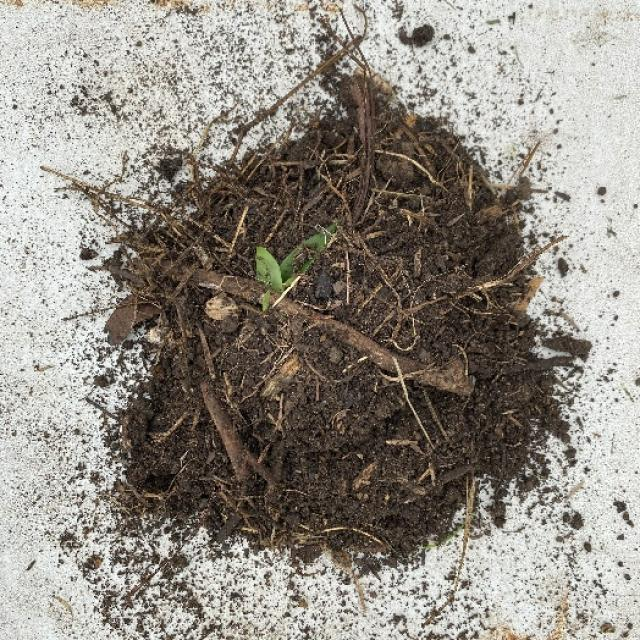organik: (82, 117, 577, 552)
